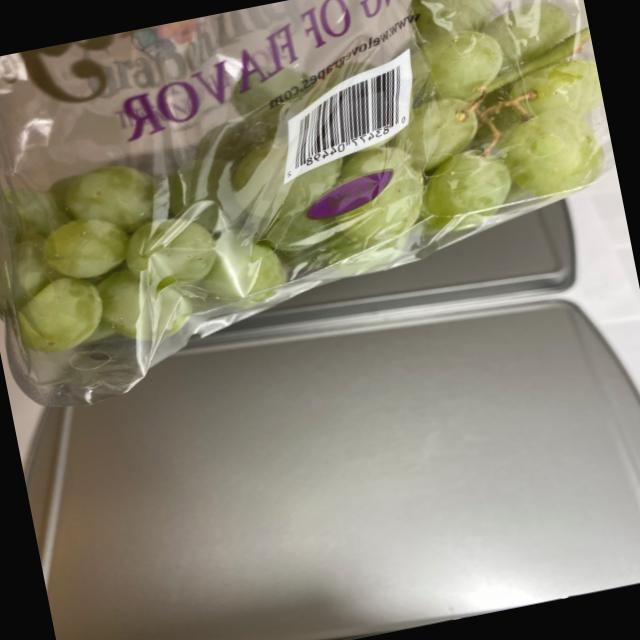grapes: (0, 0, 621, 367)
